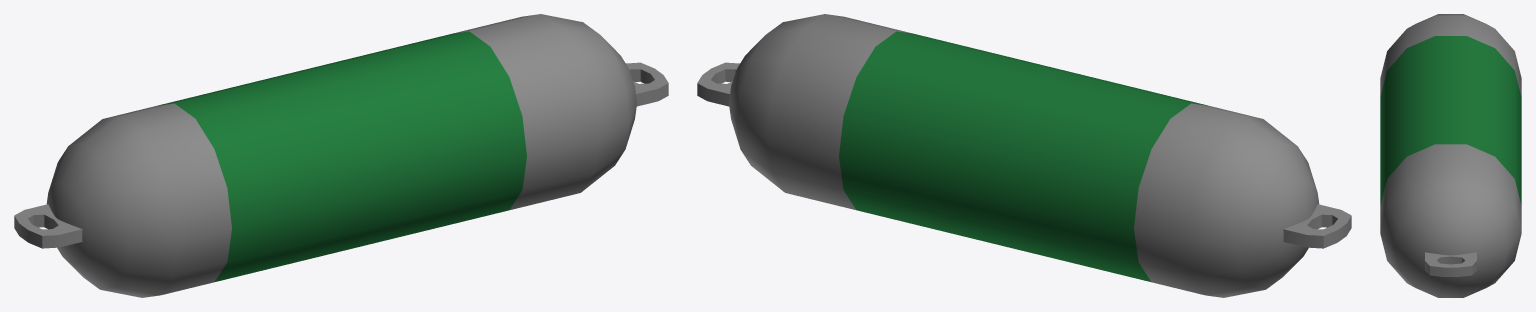
Rendered from prop_32.FBX.
The picture shows the model from 3 angles, left to right: view 1: azimuth 30°, elevation 25°; view 2: azimuth 150°, elevation 25°; view 3: azimuth 270°, elevation 25°; orthographic projection. The views are drawn at different scales.
Visible parts, largest first — view 1: prop_32; view 2: prop_32; view 3: prop_32.
Boxes of the visible parts, x1,y1,x2,y2 form: prop_32: (14,14,668,297); prop_32: (697,14,1351,297); prop_32: (1380,14,1521,297).
Bounding box in the file's own units: 42.42 × 10.61 × 10.88.
